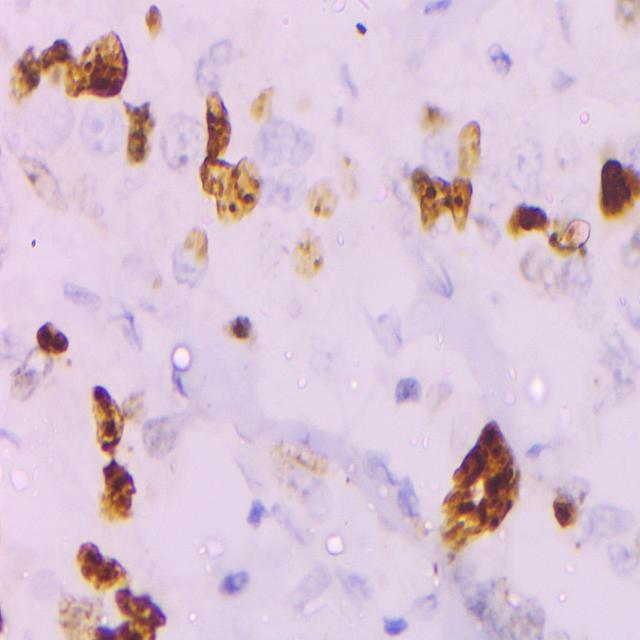Healthy cell: (246, 116, 314, 165), (156, 107, 204, 172), (268, 166, 294, 232), (198, 43, 238, 84), (393, 373, 422, 404)
cancer-cell-QiJm: (430, 554, 541, 640), (449, 423, 518, 554), (94, 463, 144, 535), (540, 210, 598, 262), (42, 32, 88, 97), (409, 169, 454, 235), (83, 382, 121, 460), (596, 153, 640, 220), (82, 33, 128, 97), (508, 193, 564, 245), (22, 152, 66, 217), (134, 413, 194, 459), (69, 540, 124, 590), (269, 436, 326, 484), (514, 243, 568, 293), (286, 230, 332, 287), (14, 347, 58, 406), (449, 116, 487, 182), (50, 590, 100, 640), (69, 157, 108, 221), (128, 94, 158, 170), (202, 159, 237, 224), (551, 489, 588, 549), (8, 40, 40, 106), (234, 153, 266, 217), (333, 146, 365, 206), (118, 584, 166, 624), (449, 174, 479, 237), (203, 90, 231, 157), (183, 216, 218, 263), (305, 177, 341, 222), (413, 98, 451, 140), (243, 80, 285, 117), (37, 316, 73, 356), (616, 219, 640, 277), (94, 619, 160, 640), (123, 377, 153, 422), (226, 313, 259, 353), (140, 0, 171, 41), (614, 0, 640, 40), (292, 88, 318, 116), (55, 349, 76, 375), (349, 19, 371, 43), (150, 266, 168, 292)
